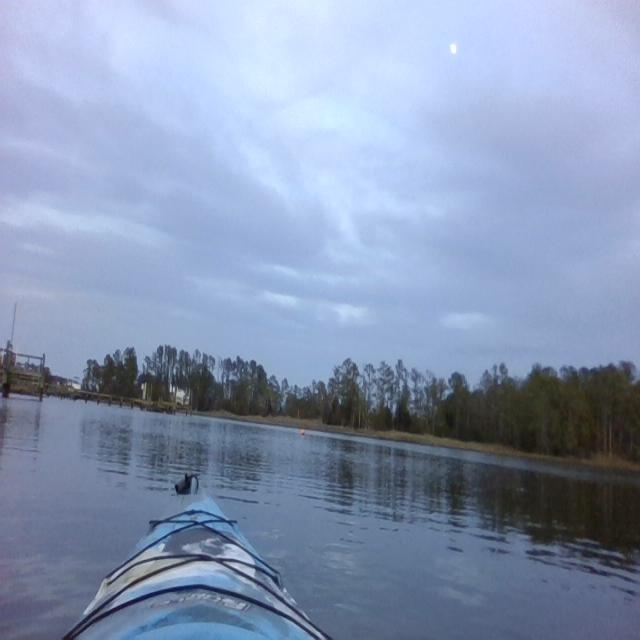Buoy: (299, 426, 307, 439)
